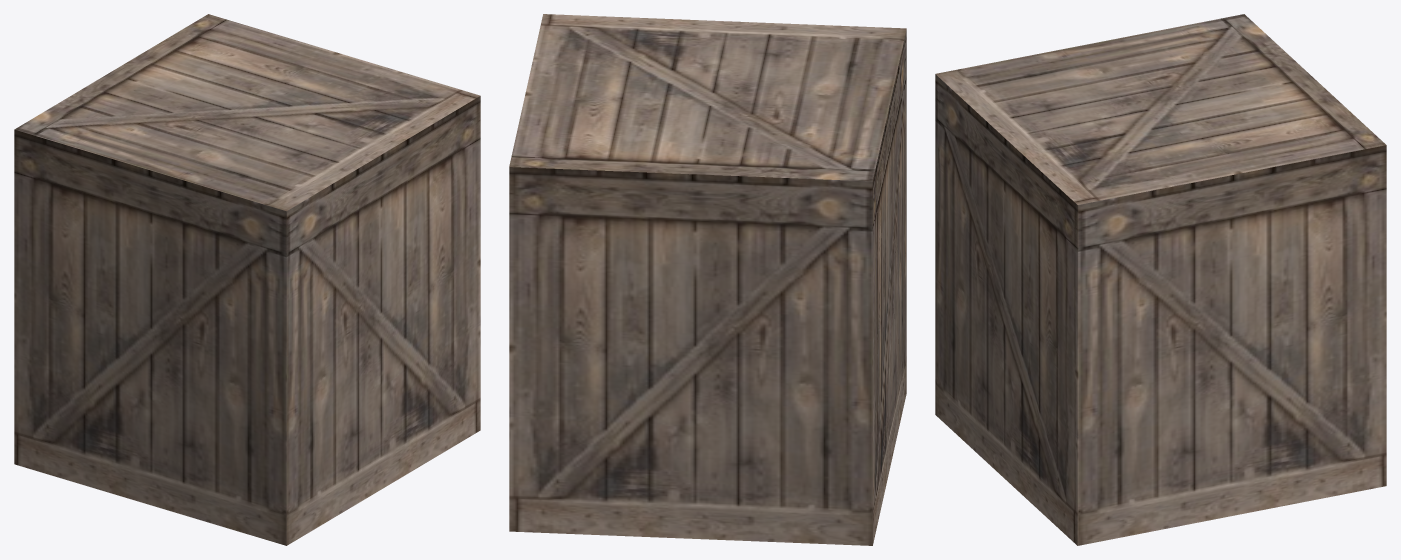
The picture shows the model from 3 angles, left to right: view 1: azimuth 30°, elevation 25°; view 2: azimuth 150°, elevation 25°; view 3: azimuth 270°, elevation 25°; orthographic projection. The views are drawn at different scales.
Parts seen in each view (by area): view 1: C003_Boxs_08_0; view 2: C003_Boxs_08_0; view 3: C003_Boxs_08_0.
Boxes of the visible parts, bbox=[...] form: C003_Boxs_08_0: bbox=[14, 14, 480, 545]; C003_Boxs_08_0: bbox=[509, 14, 906, 545]; C003_Boxs_08_0: bbox=[935, 14, 1386, 545].
Bounding box in the file's own units: 1.05 × 0.8724 × 1.05.
Materials: 1 (1 with a texture image).
